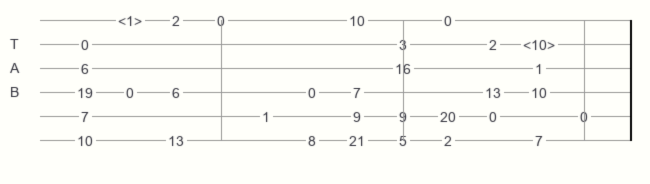0: (81, 37, 93, 51), (126, 85, 138, 99), (217, 13, 229, 27), (308, 85, 320, 99), (444, 13, 456, 27), (489, 109, 501, 123), (580, 109, 592, 123)
1: (262, 109, 274, 123), (535, 61, 547, 75)
10: (77, 133, 97, 147), (349, 13, 369, 27), (531, 85, 551, 99)
13: (168, 133, 188, 147), (485, 85, 505, 99)
16: (395, 61, 415, 75)
19: (77, 85, 97, 99)
2: (172, 13, 184, 27), (444, 133, 456, 147), (489, 37, 501, 51)
20: (440, 109, 460, 123)
21: (349, 133, 369, 147)
3: (399, 37, 411, 51)
5: (399, 133, 411, 147)
6: (81, 61, 93, 75), (172, 85, 184, 99)
7: (81, 109, 93, 123), (353, 85, 365, 99), (535, 133, 547, 147)
8: (308, 133, 320, 147)
9: (353, 109, 365, 123), (399, 109, 411, 123)
harmonic: (523, 37, 559, 51), (118, 13, 146, 27)
